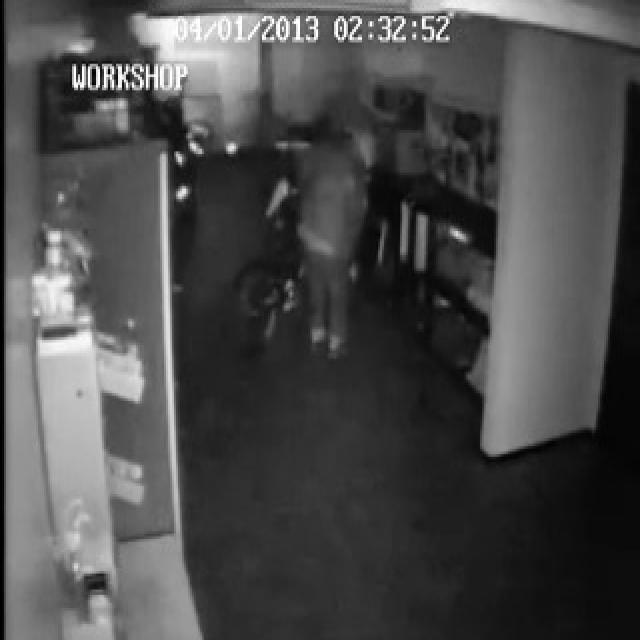thief: (318, 124, 379, 280)
